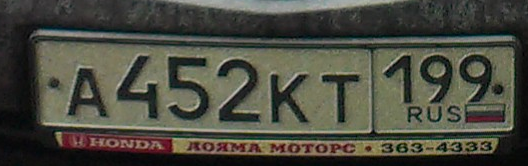character: (113, 49, 164, 124), (163, 53, 212, 126), (214, 55, 264, 126), (317, 69, 366, 128), (64, 64, 112, 123), (266, 67, 313, 127), (379, 49, 417, 108), (455, 52, 497, 105), (417, 49, 454, 106)
